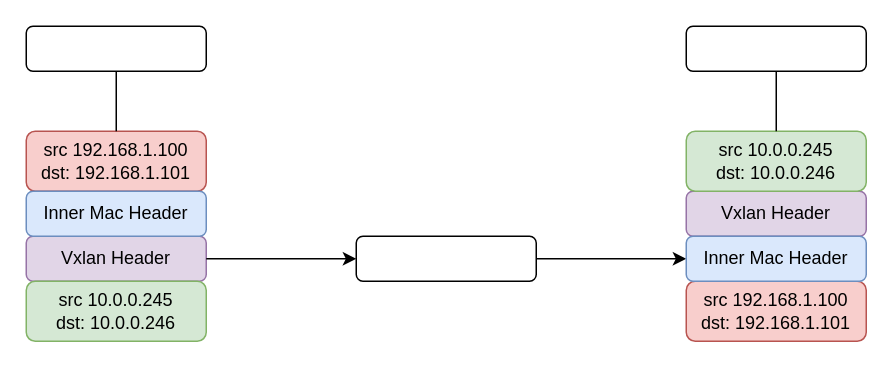
Some shapes in this 893 by 368 pixel diagram are drawn without their labels. The box of each missing label's shape, as (x1, y1, x2, y2) in pixels:
Edge-1: (25, 25, 206, 71)
Edge-2: (685, 25, 866, 71)
Routed Core: (355, 235, 536, 281)
